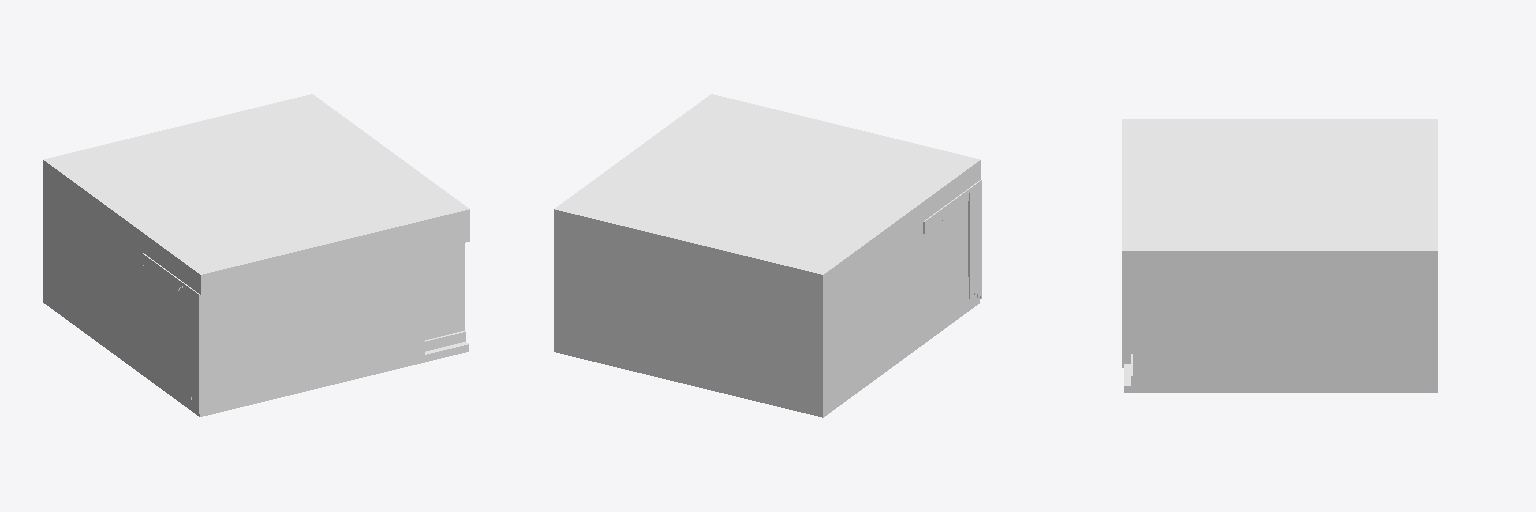
The model's file is Place4.obj.
3 views of the same model, side by side, from view 1: azimuth 30°, elevation 25°; view 2: azimuth 150°, elevation 25°; view 3: azimuth 270°, elevation 25° (orthographic).
Parts seen in each view (by area): view 1: object 1; view 2: object 1; view 3: object 1.
Boxes of the visible parts, box(x1,y1,x2,y2) form: object 1: box(43, 94, 469, 416); object 1: box(554, 94, 981, 417); object 1: box(1122, 119, 1437, 392).
Bounding box in the file's own units: 22.8 × 11.5 × 23.